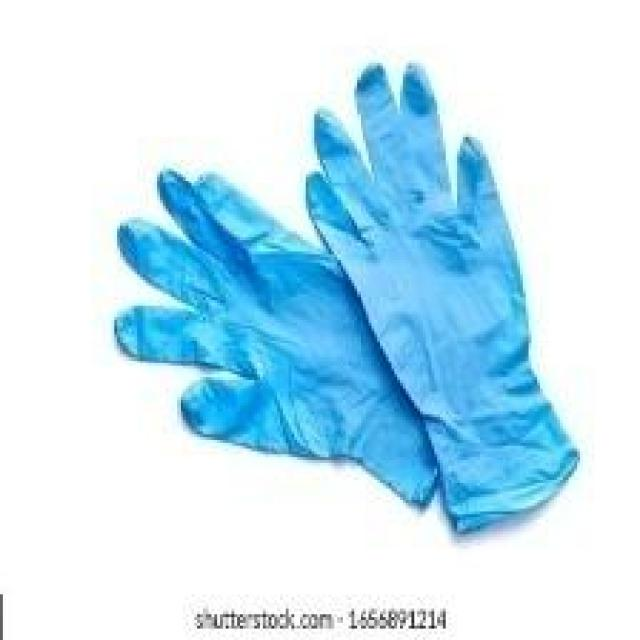Glove: (102, 53, 585, 586)
